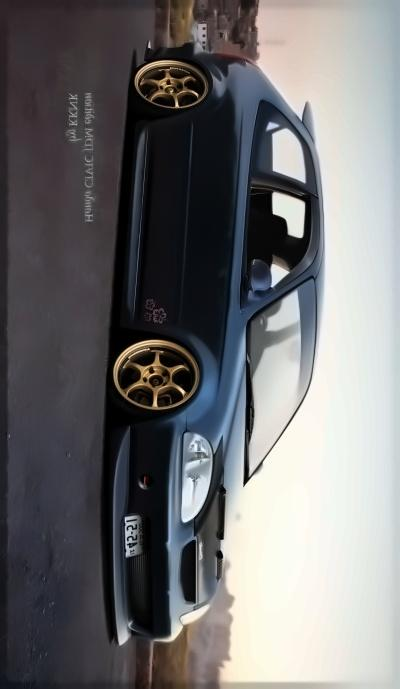Car hood: (211, 325, 252, 595)
Driver-s door - -F-R-: (63, 176, 339, 305)
Fender - -F-R-: (137, 288, 256, 428)
Fender - -R-R-: (182, 48, 289, 147)
Front bumper: (100, 398, 196, 651)
Headlight - -L-: (178, 598, 217, 633)
Headlight - -R-: (179, 428, 214, 528)
Passenger-s door - -R-R-: (119, 110, 329, 205)
Rear bumper: (137, 41, 215, 72)
Side bumper - -R-: (110, 108, 168, 352)
Side mirror - -R-: (242, 245, 279, 311)
